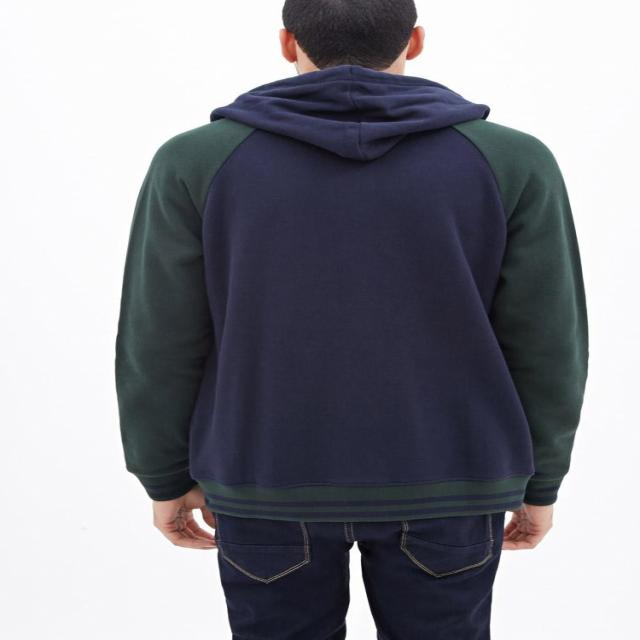Jacket: (108, 86, 598, 524)
